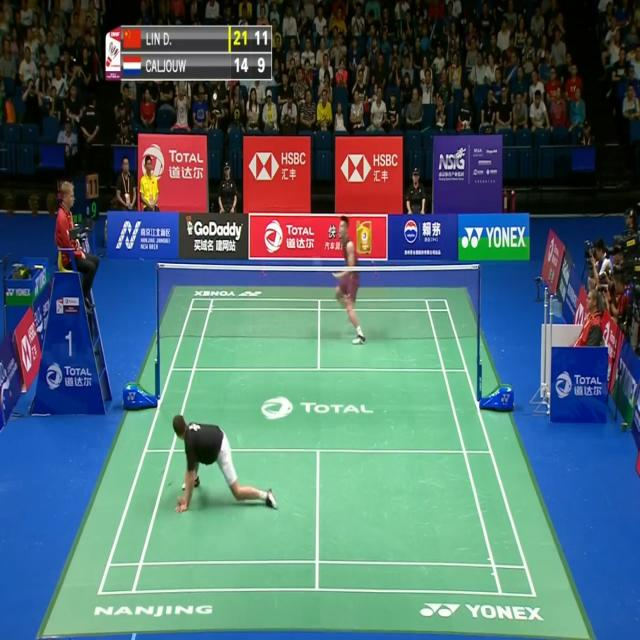Player1: (157, 402, 283, 519)
Player2: (314, 202, 370, 348)
